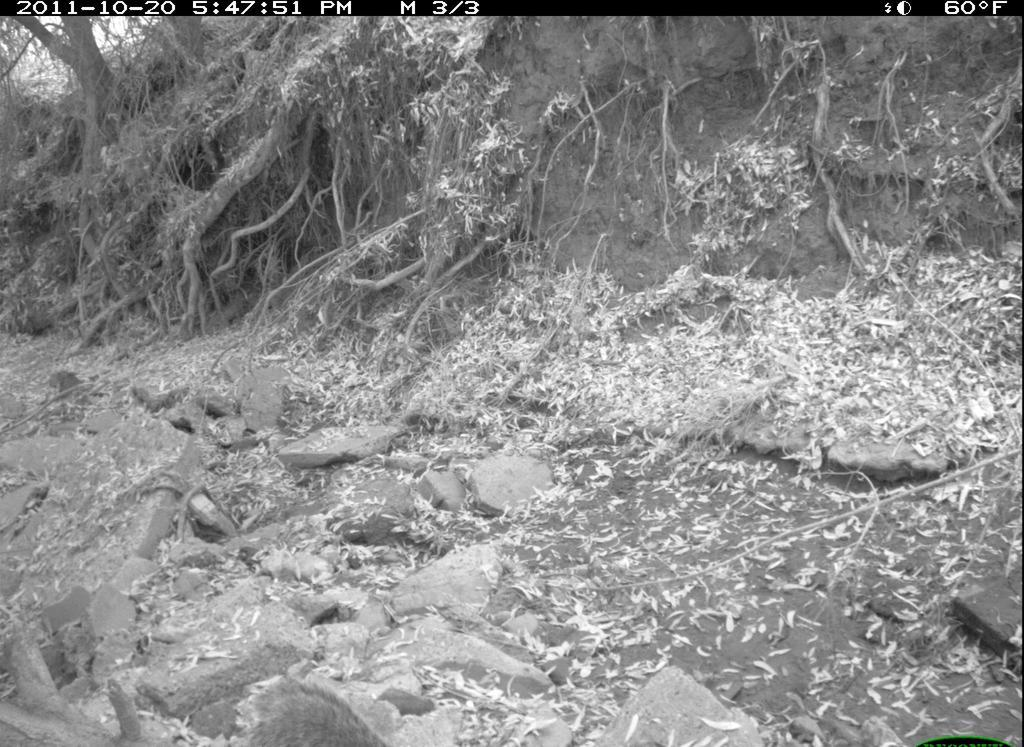squirrel: (250, 673, 406, 747)
